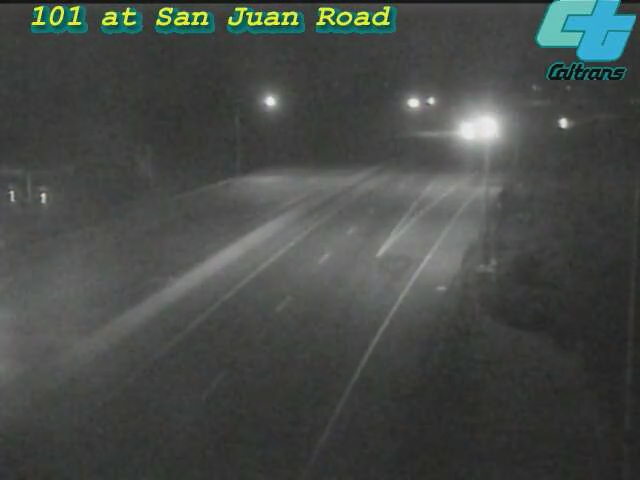vehicle: (537, 99, 587, 149), (440, 106, 490, 156), (462, 102, 512, 152)
